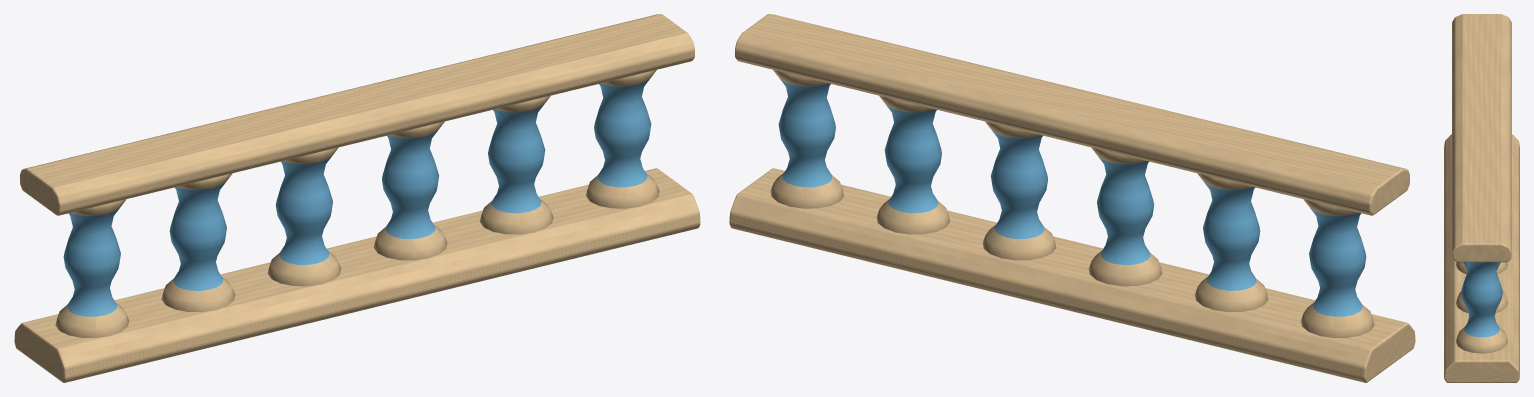
Rendered from east-rail-aef4PND5.glb.
3 renders of one model, left to right at view 1: azimuth 30°, elevation 25°; view 2: azimuth 150°, elevation 25°; view 3: azimuth 270°, elevation 25°, orthographic. The views are drawn at different scales.
Visible parts, largest first — view 1: east-rail; view 2: east-rail; view 3: east-rail.
Boxes of the visible parts, left/top/right/bottom form: east-rail: left=14, top=14, right=700, bottom=382; east-rail: left=729, top=14, right=1415, bottom=382; east-rail: left=1444, top=14, right=1519, bottom=382.
Size of the model in its own units: 2.65 by 0.748 by 0.3685.
Materials: 2 (1 with a texture image).
